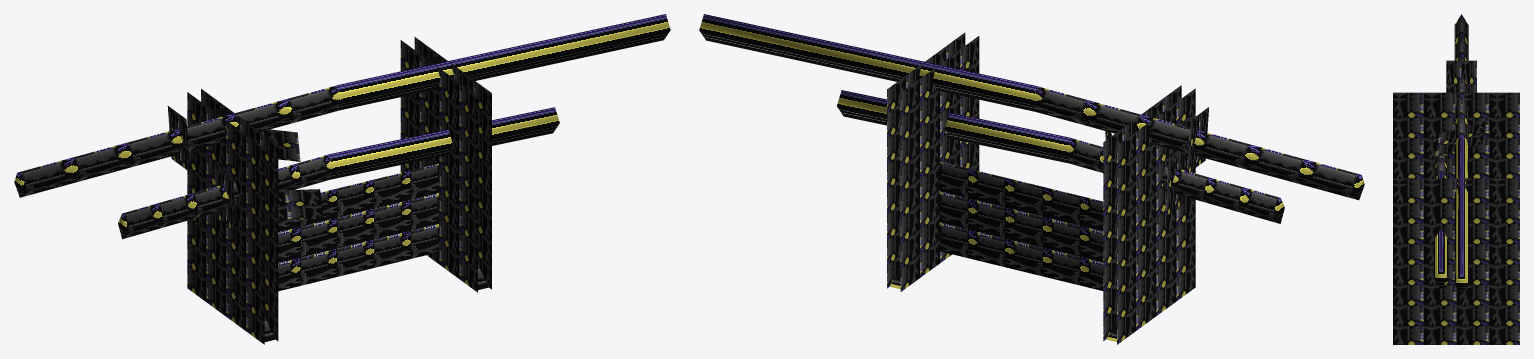
Rendered from 3270IMIG04_04.gltf.
The picture shows the model from 3 angles, left to right: view 1: azimuth 30°, elevation 25°; view 2: azimuth 150°, elevation 25°; view 3: azimuth 270°, elevation 25°; orthographic projection. The views are drawn at different scales.
Parts seen in each view (by area): view 1: 3270IMIG04_04; view 2: 3270IMIG04_04; view 3: 3270IMIG04_04.
Boxes of the visible parts, bbox=[...] form: 3270IMIG04_04: bbox=[14, 14, 670, 344]; 3270IMIG04_04: bbox=[699, 14, 1364, 344]; 3270IMIG04_04: bbox=[1393, 14, 1519, 344].
Bounding box in the file's own units: 1.77 × 0.5549 × 0.3647.
1 material, 1 textured.
